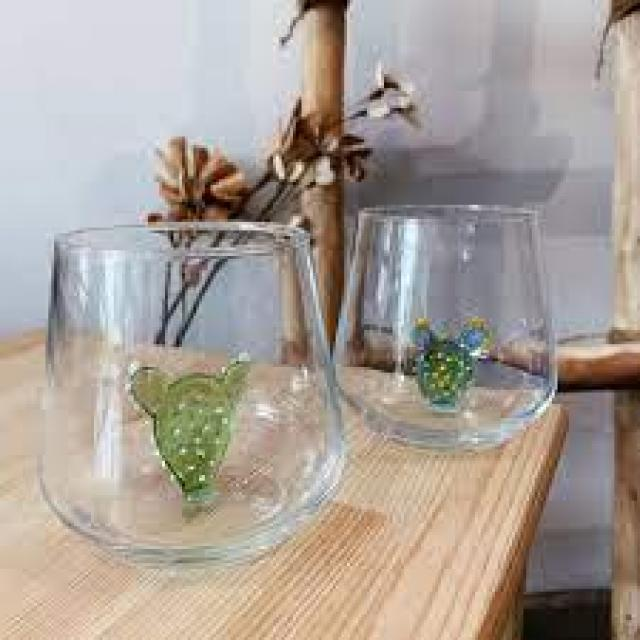non-organic waste: (34, 220, 344, 562), (334, 203, 556, 448)
